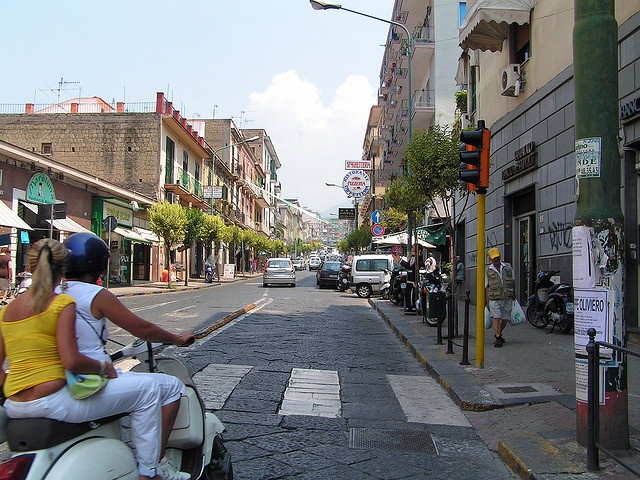non-vehicle: (0, 339, 234, 479), (525, 271, 573, 333), (415, 276, 447, 325), (380, 266, 412, 303), (337, 269, 350, 292), (204, 261, 216, 282)
